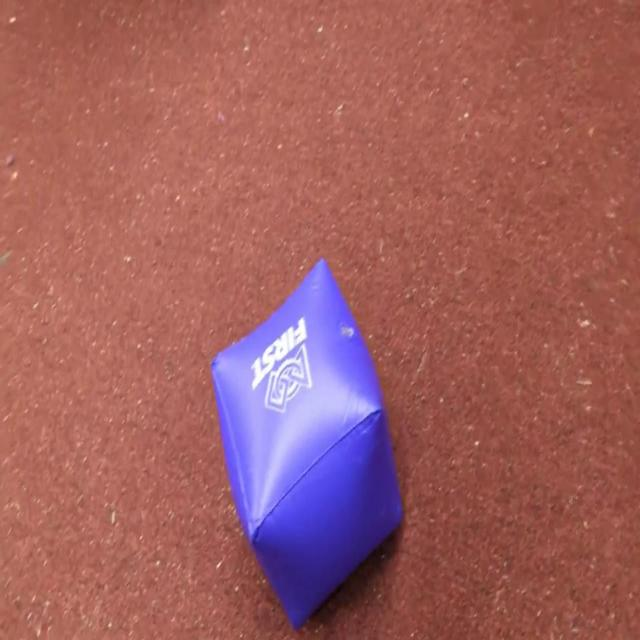frc_cube: (208, 258, 402, 629)
